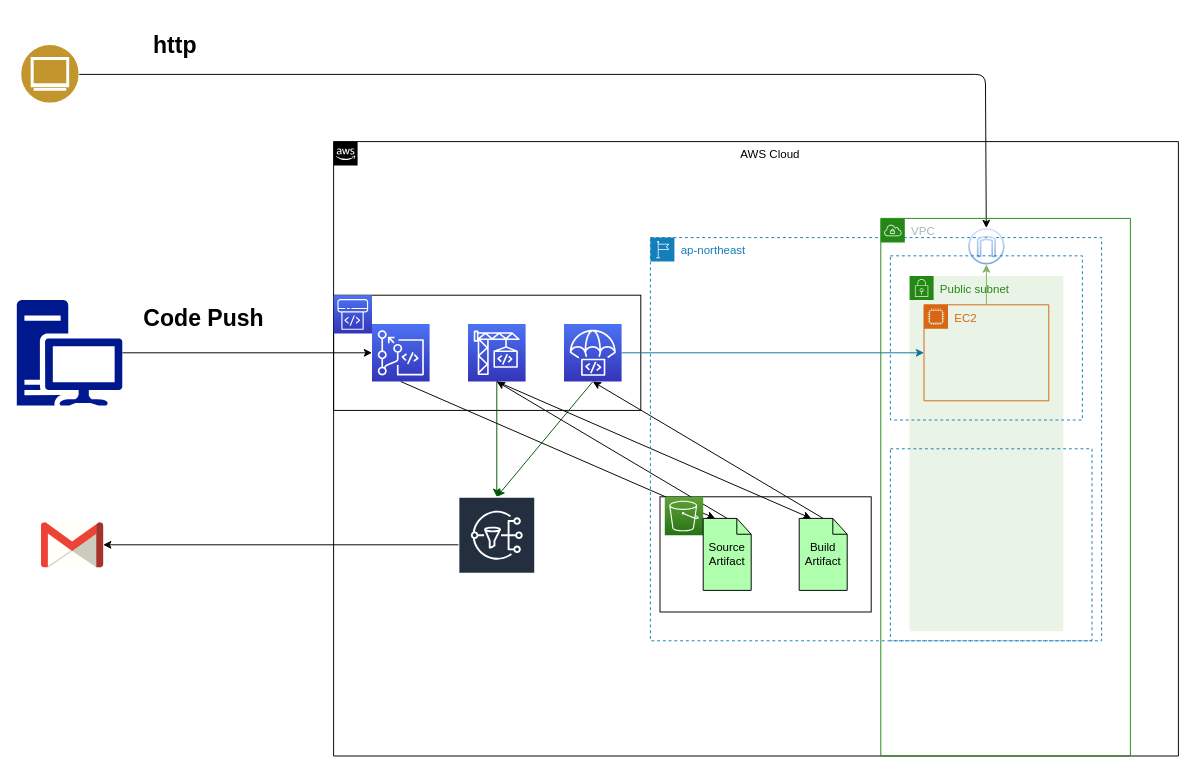
The diagram is 1195 pixels wide and 773 high, and some of its shapes have lost their labels. The shapes that lost their labels are listed below. From the top down, each one's box as (x1, y1, x2, y2) in pixels, then its label:
(333, 294, 641, 410): CodePipeline
(889, 255, 1082, 420): ap-northeast-1a
(457, 496, 535, 593): Amazon SNS
(889, 448, 1092, 641): ap-northeast-1b
